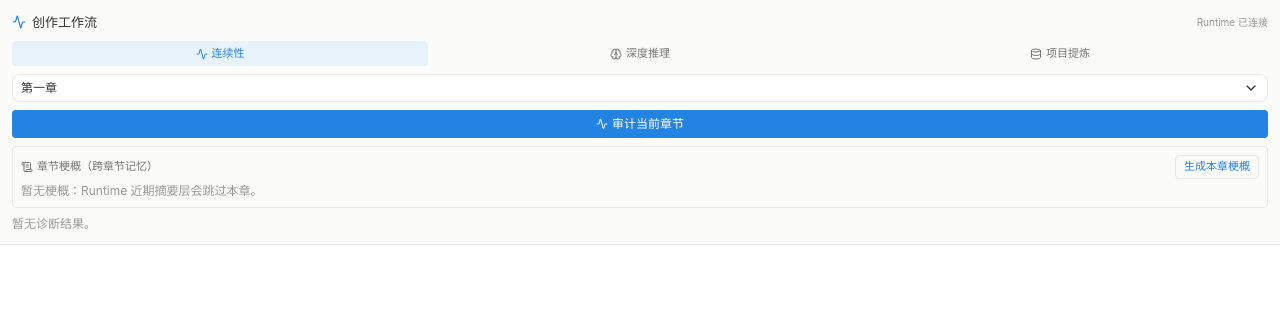
CreativeWorkflowsPanel › runs deep reasoning and forwards interactive steering while the task is pending
Click the button "深度推理" at (640, 54), box [432,41,848,66]
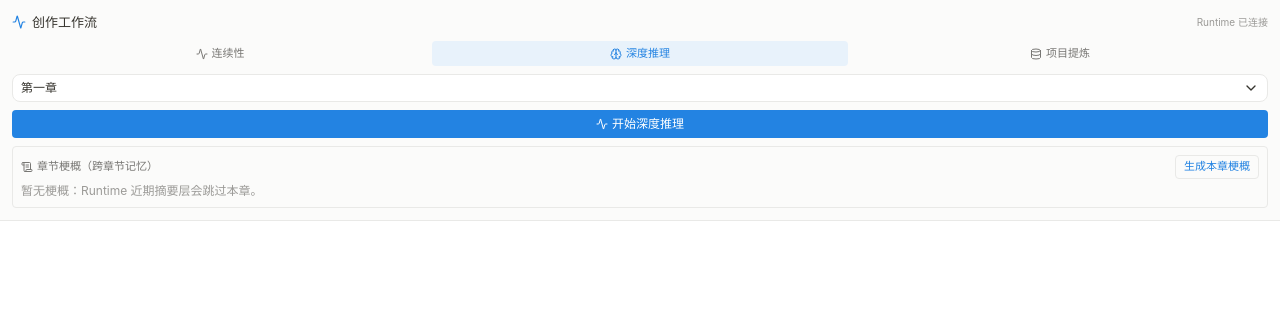
Click the button "开始深度推理" at (640, 124), box [12,110,1268,138]
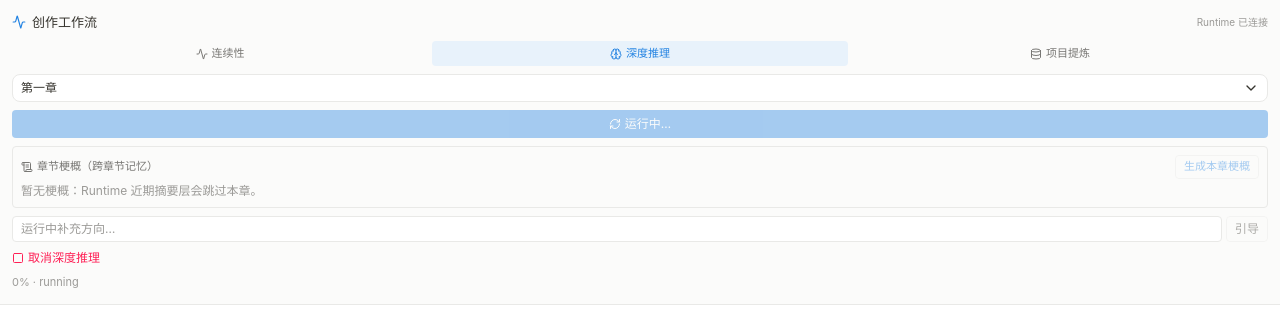
Type "保持冷色意象" into the field named "推理 steering" at (617, 229), box [12,216,1222,242]
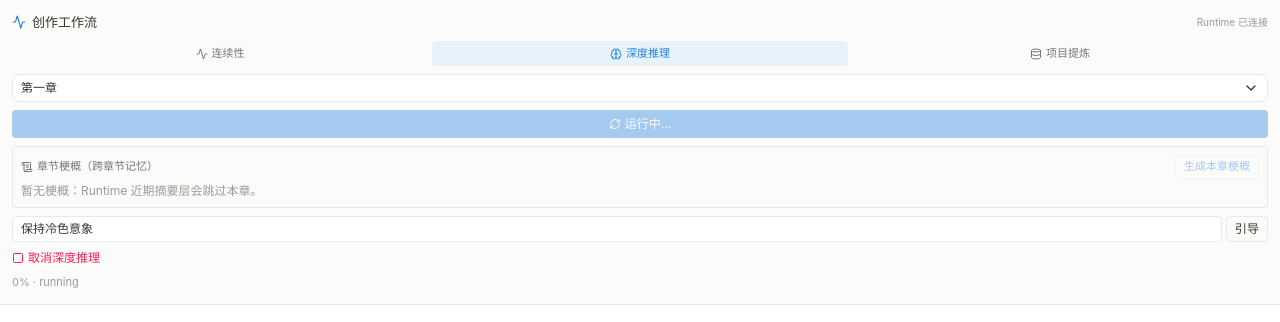
Click the button "引导" at (1247, 229), box [1226,216,1268,242]
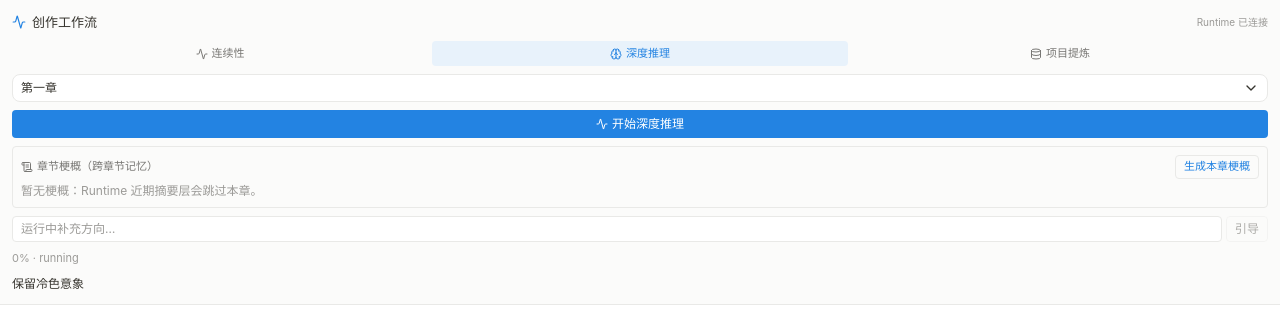
expect the element with test id "deep-reasoning-result" reads "保留冷色意象": met, box [12,276,84,291]
